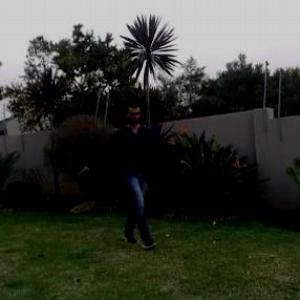land: (82, 101, 188, 235)
